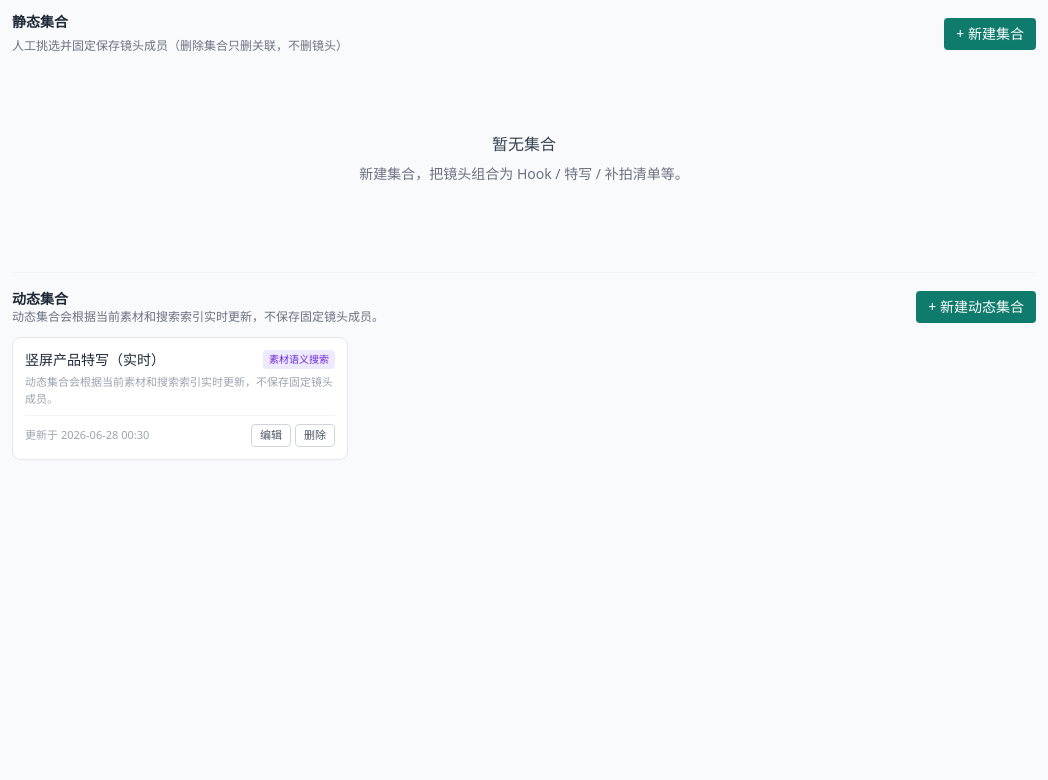
Test: ProjectCollectionsTab 静态/动态分区 › 打开动态集合 → 渲染实时镜头区块
The width and height of the screenshot is (1048, 780).
Expected: the list item with test id "dynamic-collection-1" is shown, [12,337,348,460]
Step 1. Click the button with test id "open-dynamic-1" → (140, 360), box [25,350,255,370]
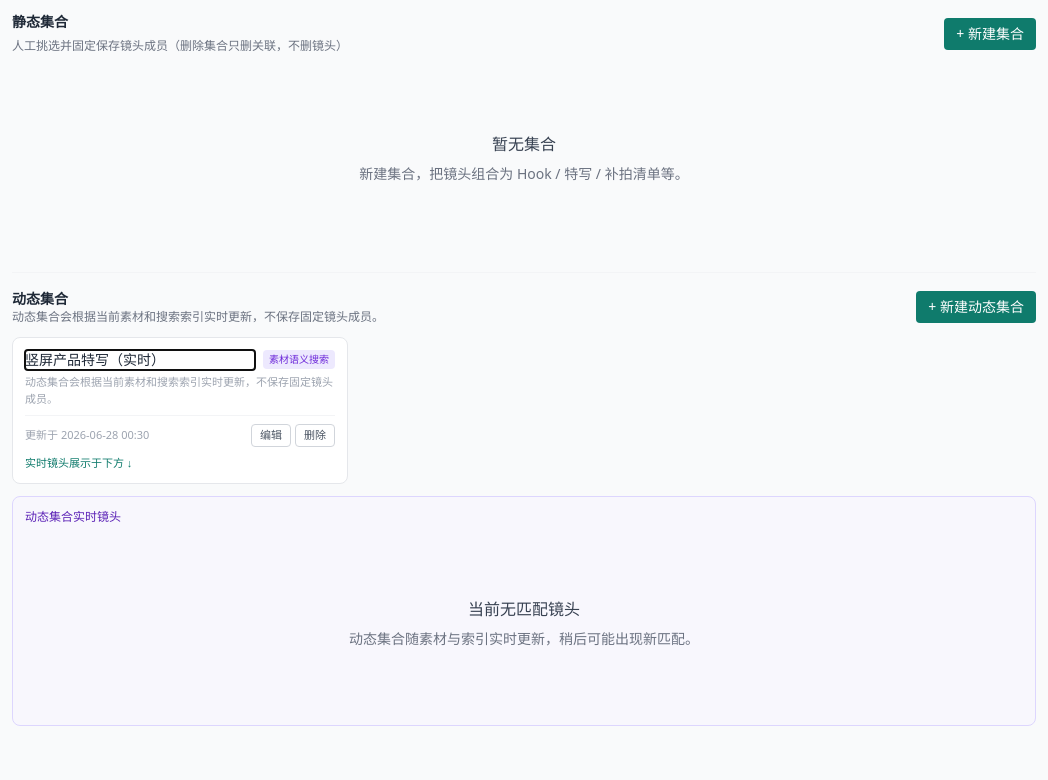
Expected: the element with test id "dynamic-collection-shots" is shown, [12,496,1036,726]
